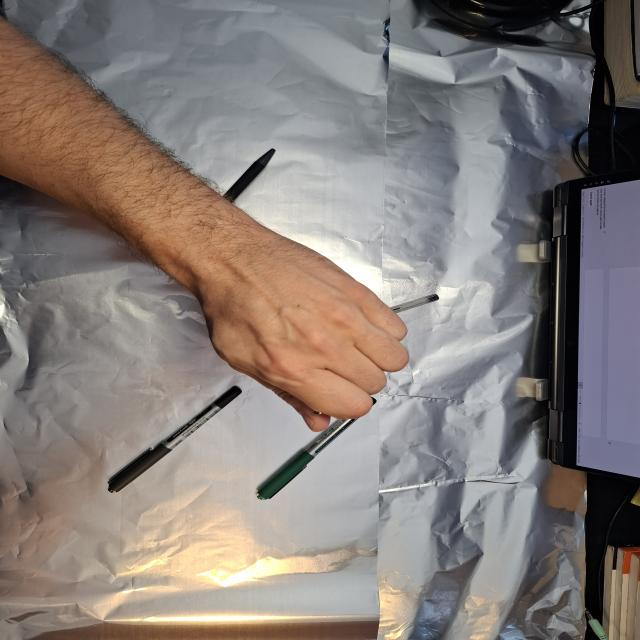glove_off: (192, 231, 413, 434)
